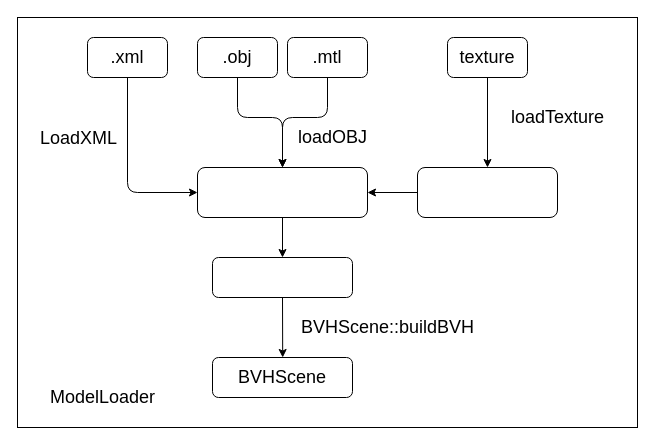
Some shapes in this 655 by 445 pixel diagram are drawn without their labels. Here are the shapes that lost their labels. From the top down, the centre of each, then its label:
At (x=282, y=192): "(triangles, camera)".
At (x=487, y=192): "(string, Mat3f)".
At (x=282, y=277): "Scene".
